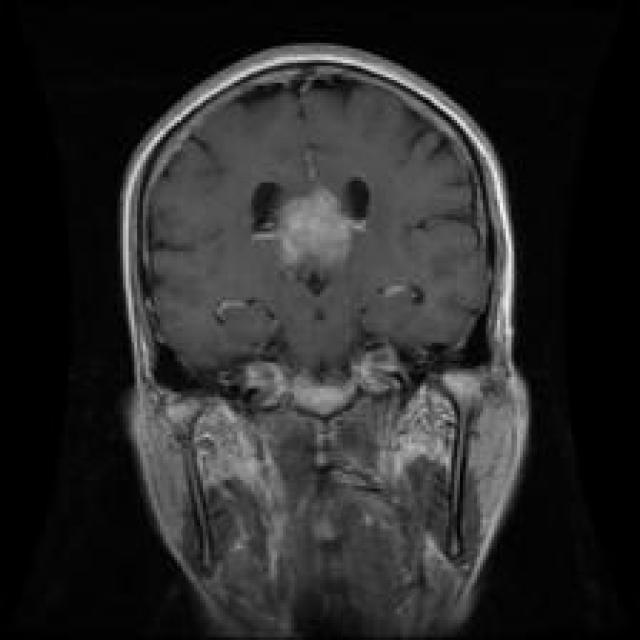meningioma_tumor: (272, 170, 372, 290)
